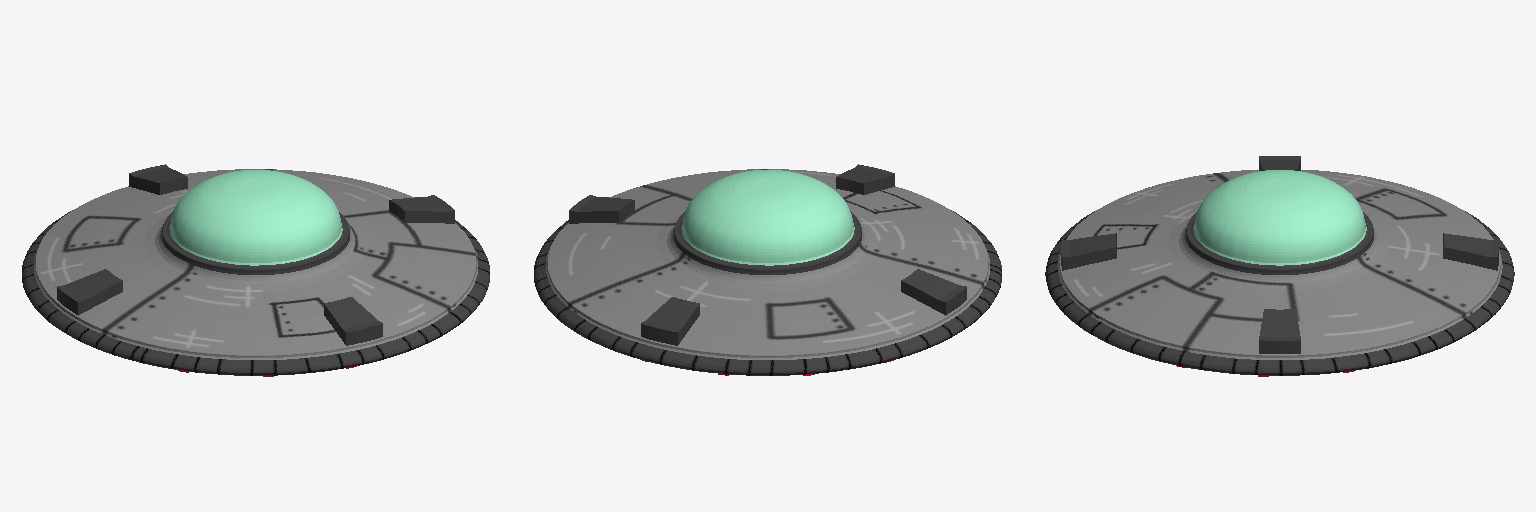
3 views of the same model, side by side, from view 1: azimuth 30°, elevation 25°; view 2: azimuth 150°, elevation 25°; view 3: azimuth 270°, elevation 25° (orthographic).
Visible parts, largest first — view 1: Cylinder_Cylinder.001; view 2: Cylinder_Cylinder.001; view 3: Cylinder_Cylinder.001.
Part boxes in pixels (x1,y1,x2,y2): Cylinder_Cylinder.001: (22,164,489,376); Cylinder_Cylinder.001: (534,164,1001,375); Cylinder_Cylinder.001: (1045,156,1514,376).
Bounding box in the file's own units: 8.09 × 2.68 × 8.09.
Materials: 1 (1 with a texture image).